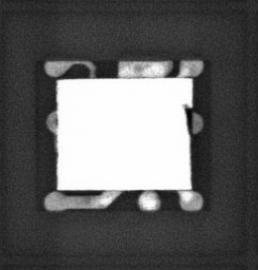DIE_BROKEN: (183, 103, 193, 137)
